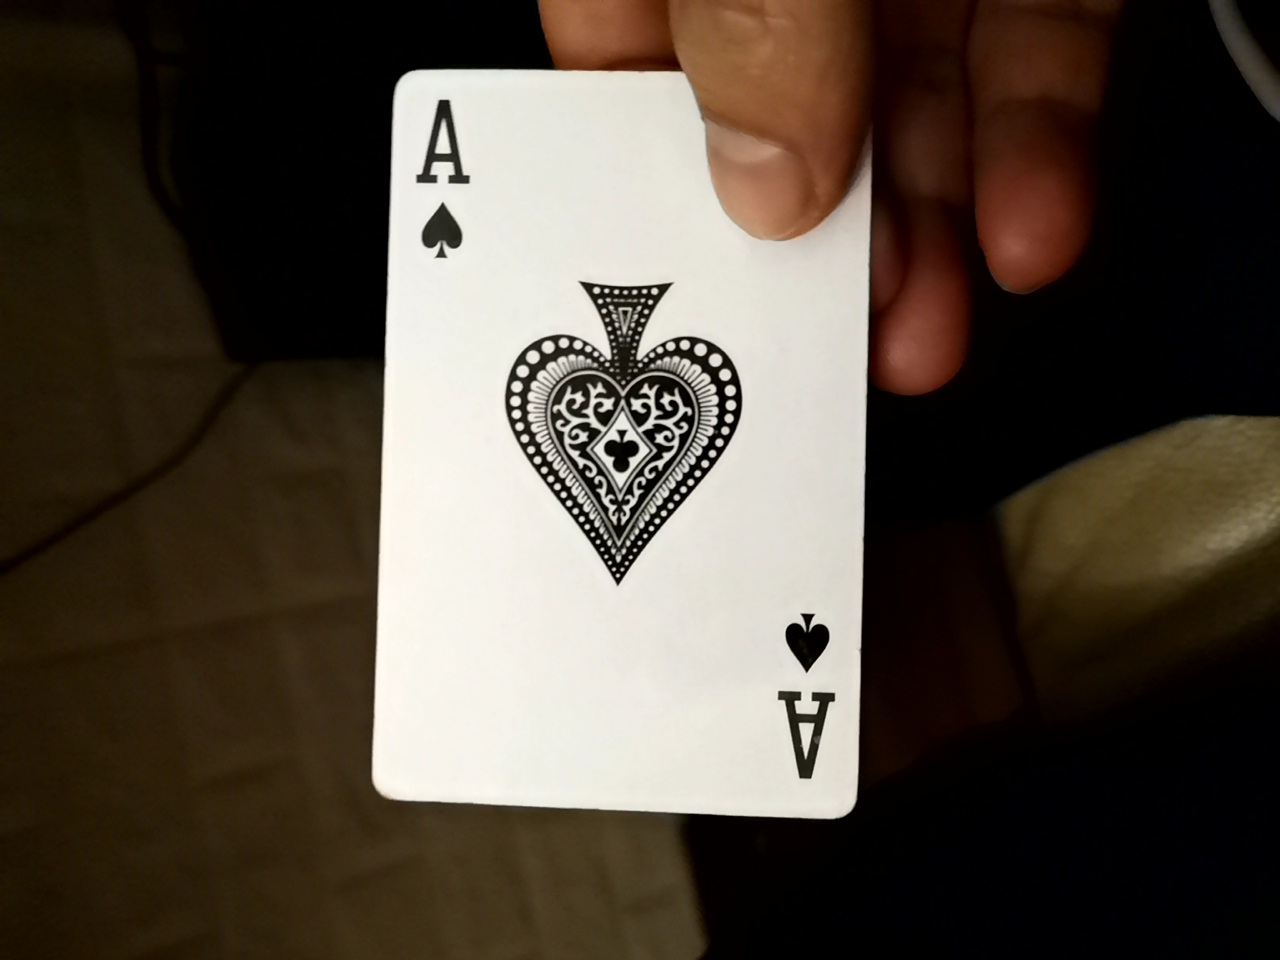ht a: (357, 41, 895, 838)
